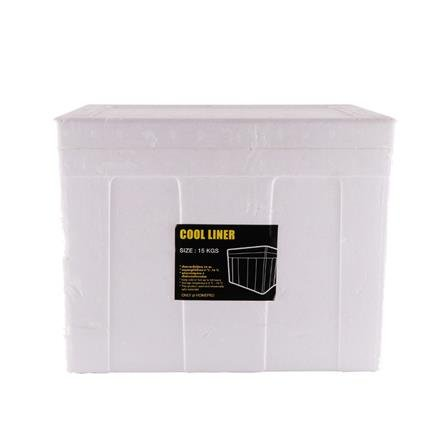Foam Box: (51, 99, 401, 381)
